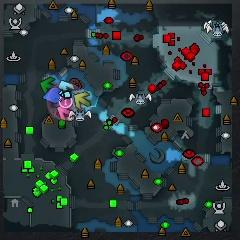p1: (43, 88, 65, 103)
x1: (57, 105, 73, 121)
x2: (75, 91, 91, 110)
x3: (58, 79, 74, 90)
x4: (41, 76, 56, 93)
